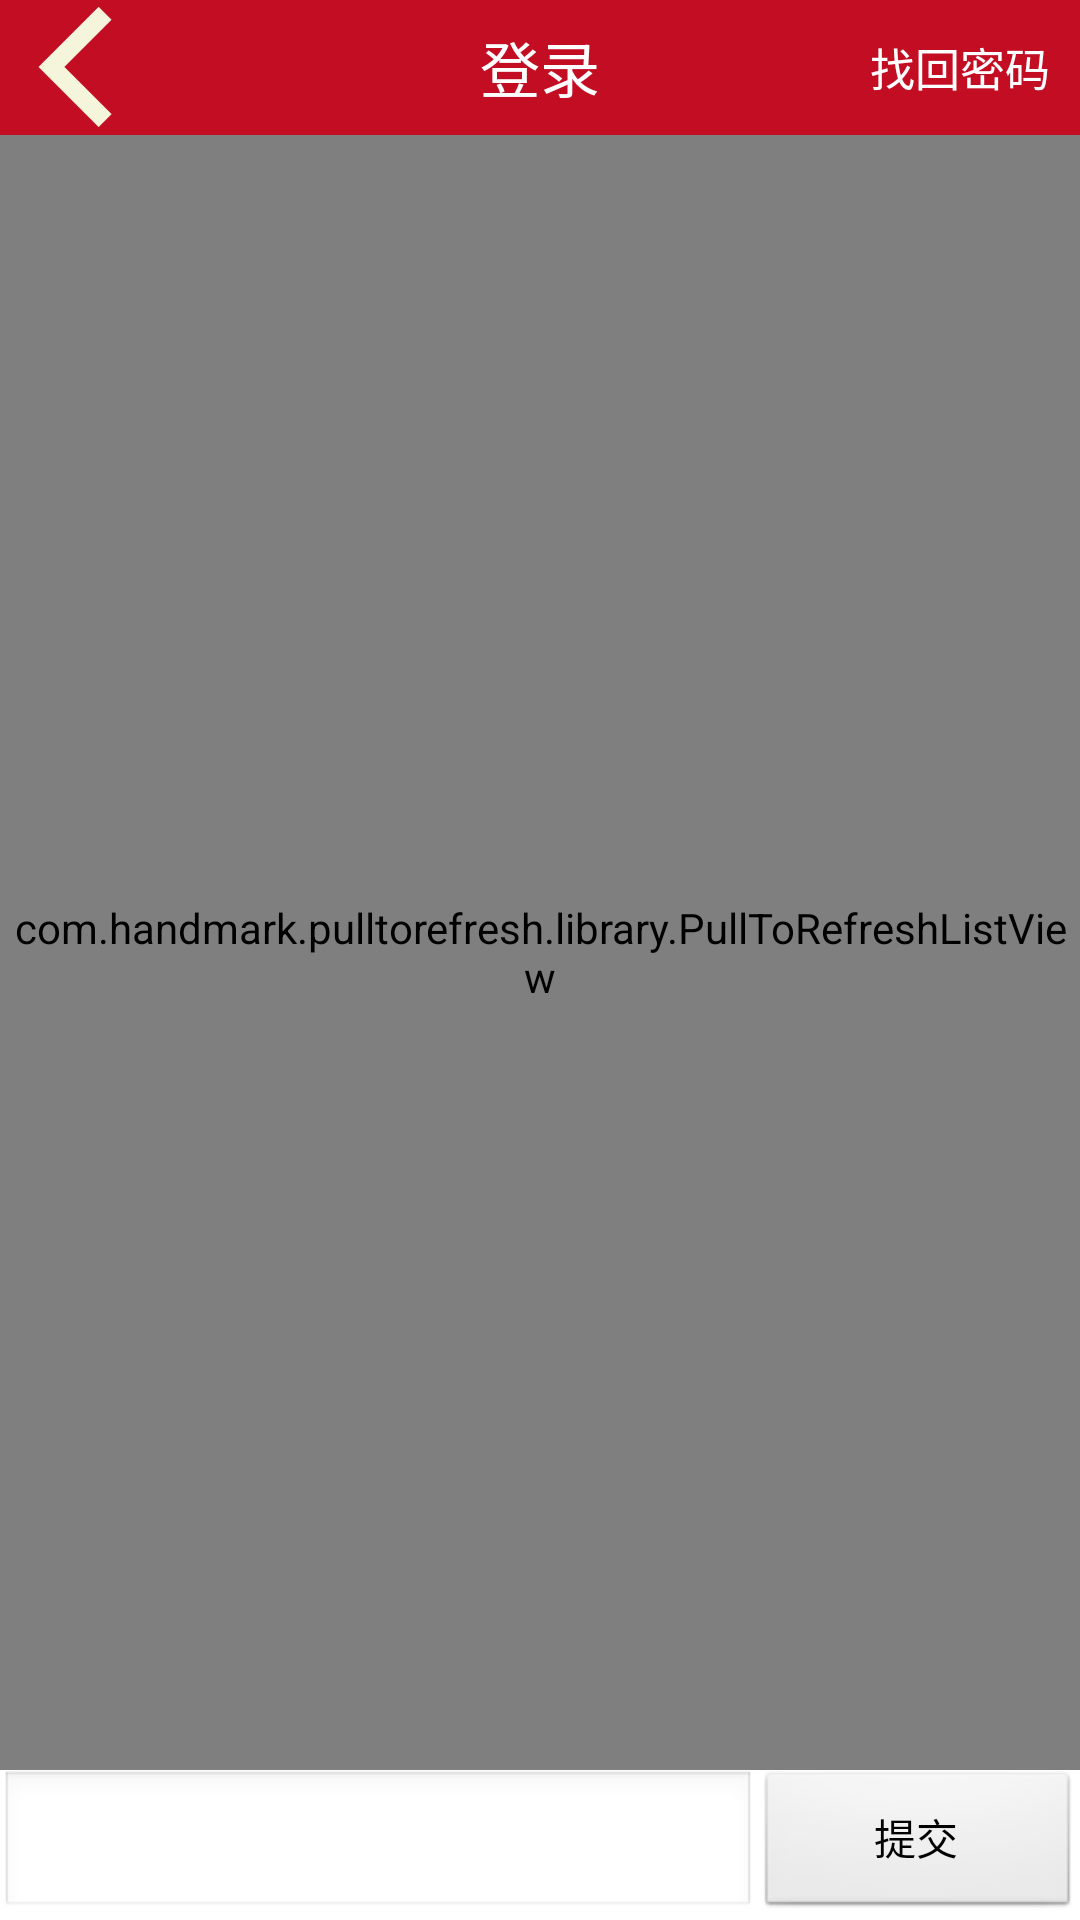

Icons on this 1080w x 1920h Android screen, each with its box as box=[x1, y1, x2, y2]:
arrowleft: box=[38, 7, 112, 127]
